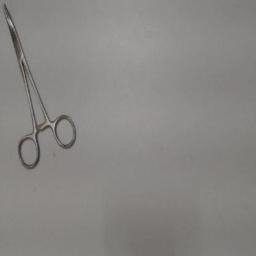Crile Artery Forceps: (0, 2, 78, 172)
